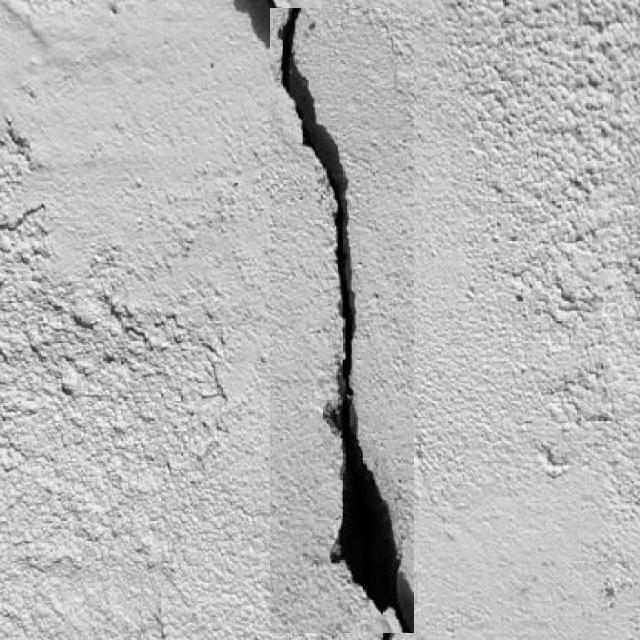Crack: (247, 1, 438, 640)
